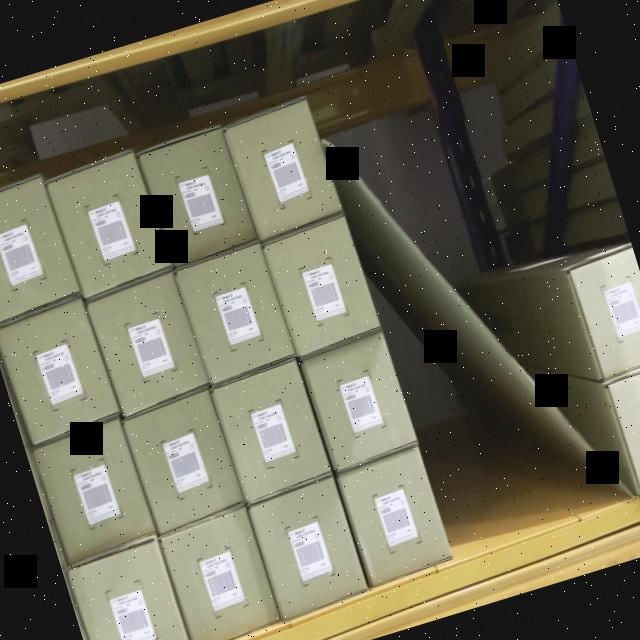box: (120, 384, 246, 536), (32, 418, 158, 564), (134, 120, 258, 268), (47, 148, 172, 294), (0, 295, 122, 444), (83, 268, 205, 416), (211, 358, 332, 501), (260, 215, 381, 357), (224, 97, 344, 240), (297, 332, 419, 472), (158, 508, 280, 640), (248, 477, 368, 611), (334, 446, 453, 581), (176, 245, 293, 380), (66, 540, 196, 640), (0, 173, 82, 322), (568, 248, 640, 383), (607, 358, 640, 498)
